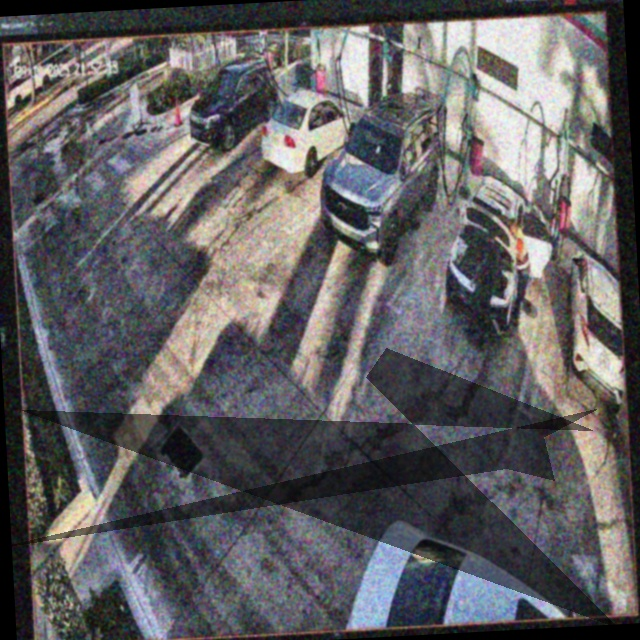Car: (316, 90, 444, 264), (442, 173, 556, 335), (186, 64, 281, 150), (260, 88, 358, 170)
